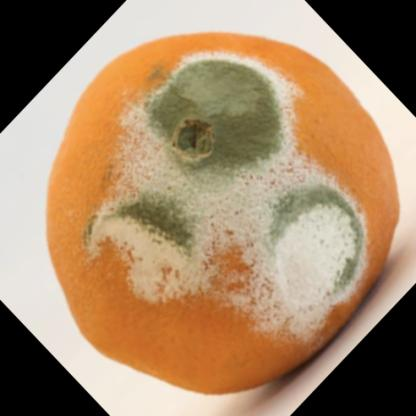rotten: (47, 33, 399, 396)
